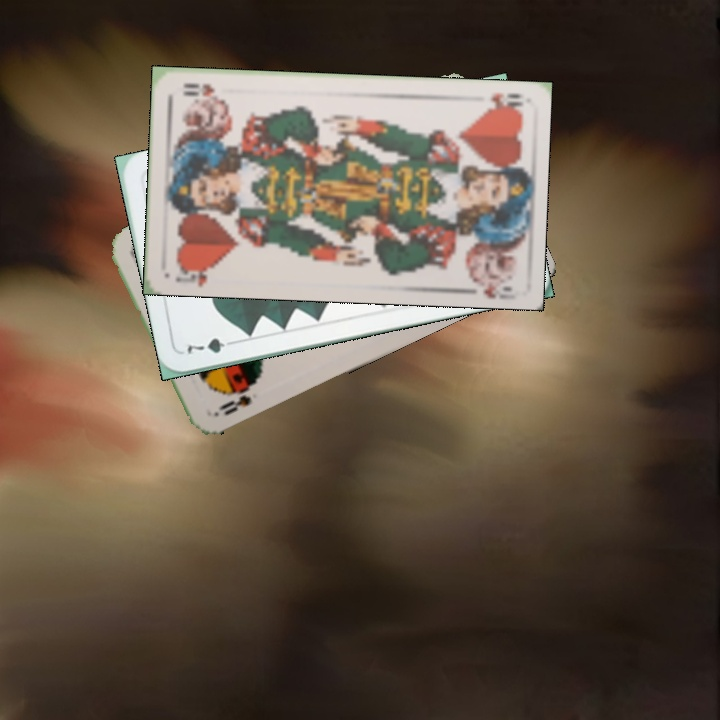G7: (181, 334, 240, 357)
HO: (171, 260, 218, 288), (483, 89, 525, 115)
SO: (214, 391, 254, 418)
